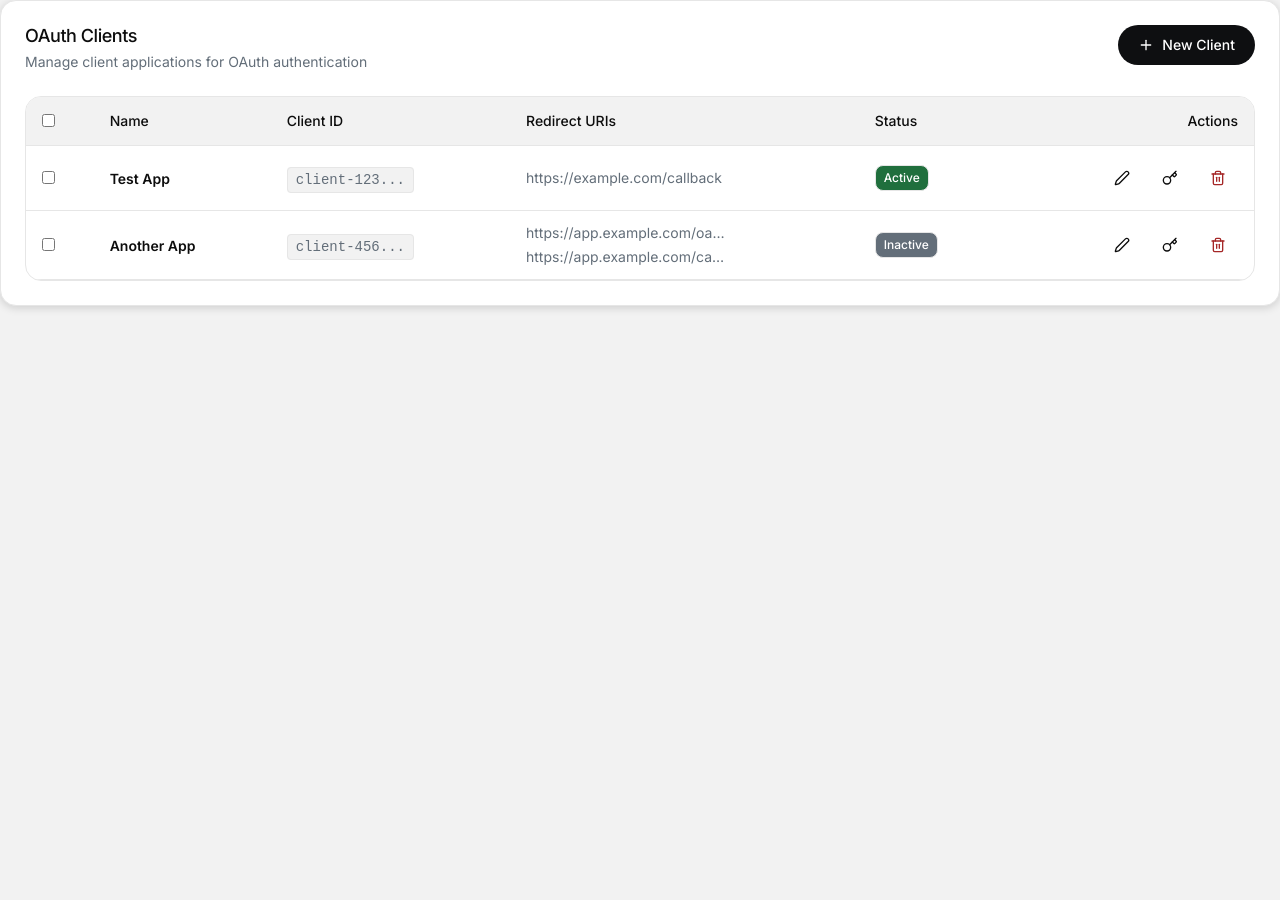
Test: ClientManagement › Rotate Secret › should rotate secret and show new credentials
Expected: the text "Test App" is shown, x1=110 y1=170 x2=170 y2=186
Click the button titled "rotate secret" in the row of "Test App" at [1170, 178], box x1=1150 y1=158 x2=1190 y2=198
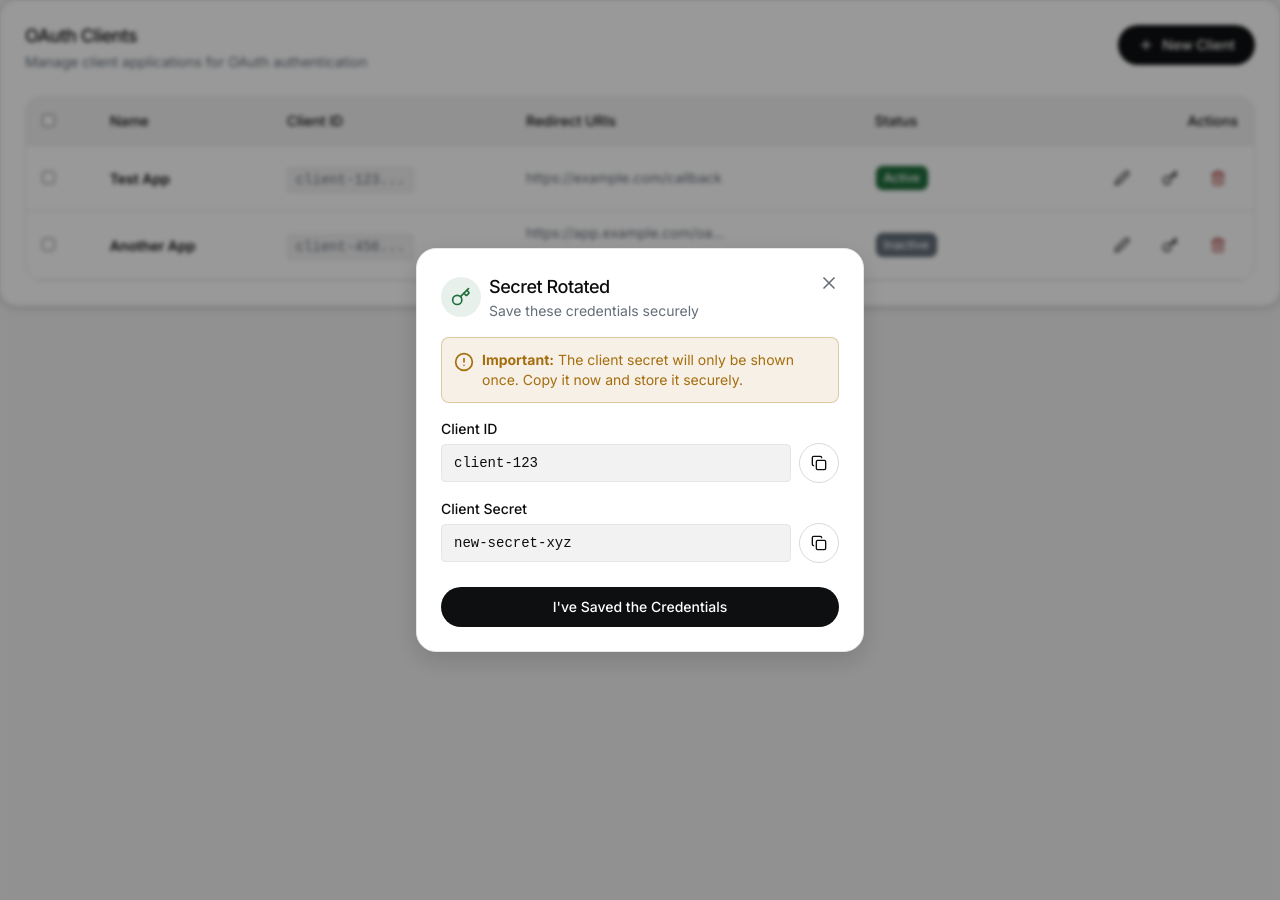
Expected: the heading "Secret Rotated" is shown, x1=489 y1=276 x2=610 y2=297
Expected: the text "new-secret-xyz" is shown, x1=441 y1=524 x2=791 y2=562
